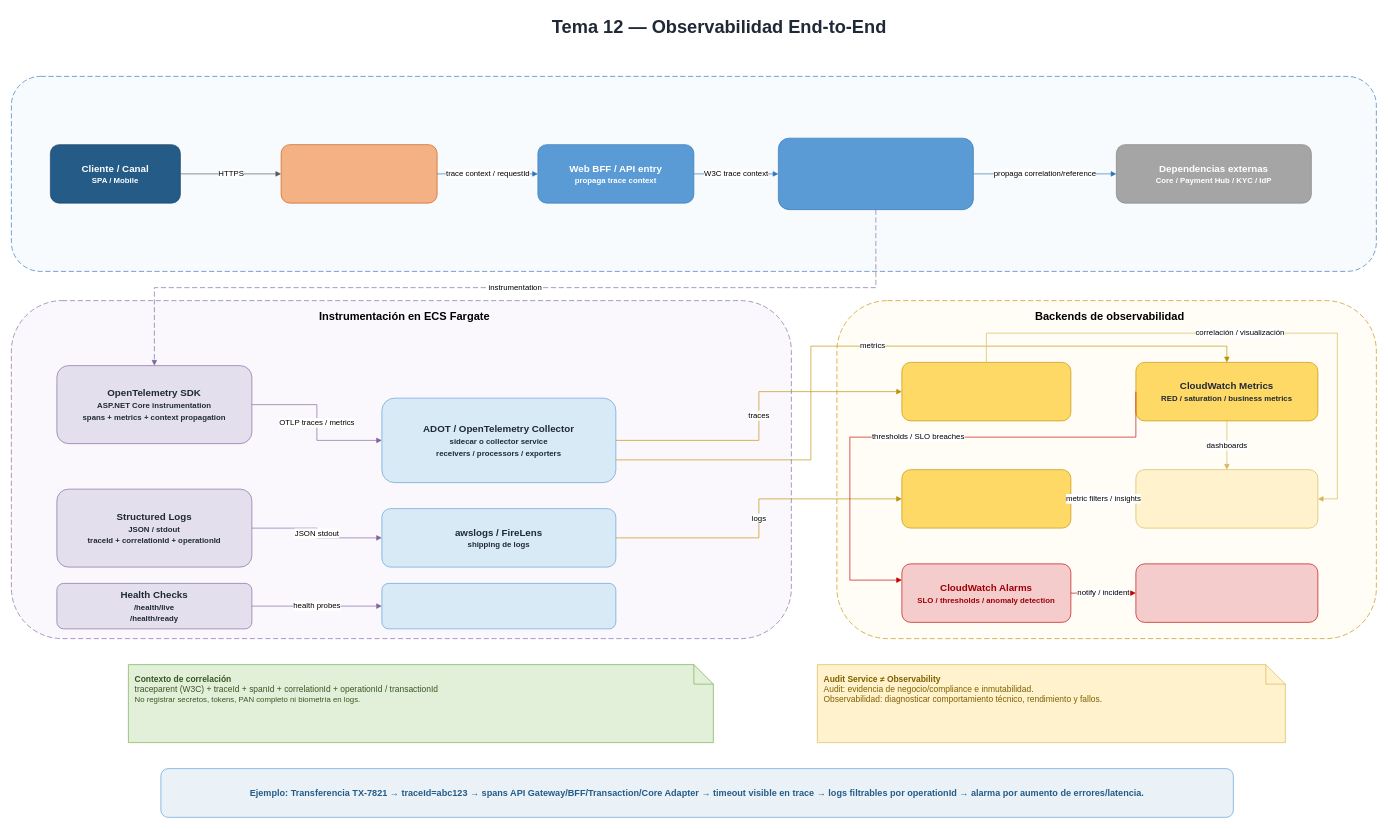
Some shapes in this 1388 by 829 pixel diagram are drawn without their labels. The shapes that lost their labels are listed below. From the top down, each one's box as (x1, y1, x2, y2) in pixels, then its label:
(280, 144, 437, 203): WAF + API Gateway requestId / auth / routing
(11, 76, 1376, 271): Flujo de negocio observado
(778, 137, 973, 210): Microservicios Customer / Movement / Transaction / Onboarding
(901, 362, 1071, 421): AWS X-Ray distributed traces
(901, 469, 1071, 528): CloudWatch Logs logs estructurados + búsquedas
(1135, 469, 1318, 528): Dashboards / ServiceLens visión operacional correlacionada
(381, 583, 616, 629): ALB / ECS Health Integration readiness para routing liveness para proceso
(1135, 563, 1318, 622): Operaciones / On-call SNS / incident tool / runbooks
